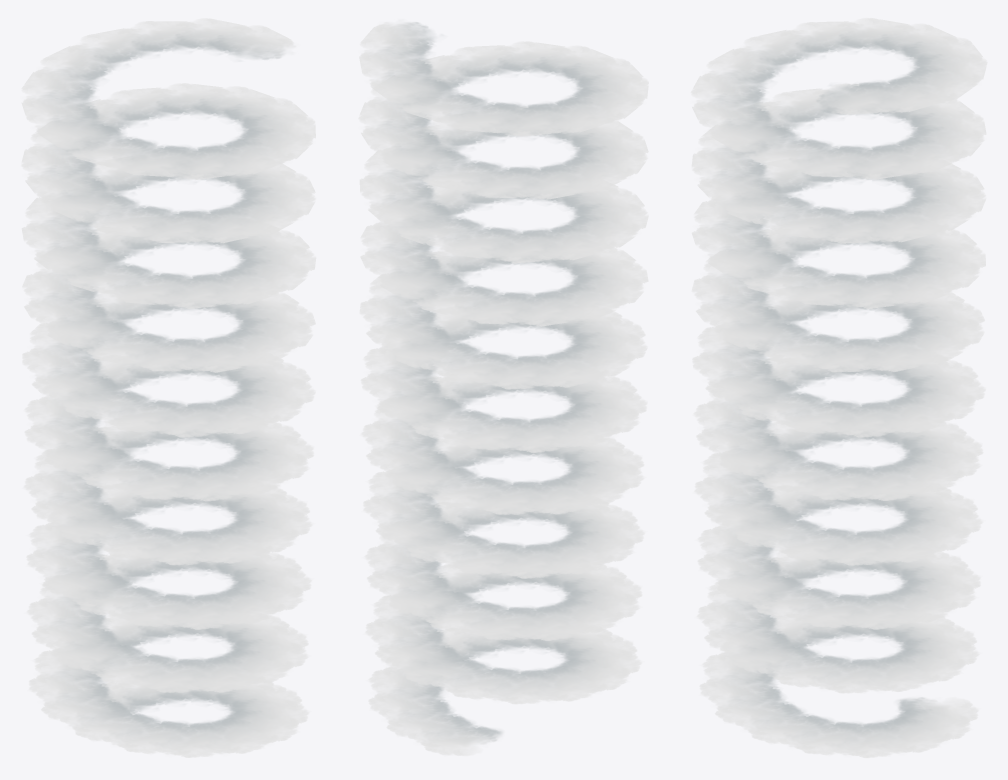
The model's file is clouds.gltf.
The picture shows the model from 3 angles, left to right: view 1: azimuth 30°, elevation 25°; view 2: azimuth 150°, elevation 25°; view 3: azimuth 270°, elevation 25°; orthographic projection.
Parts seen in each view (by area): view 1: Plane; view 2: Plane; view 3: Plane.
Boxes of the visible parts, x1,y1,x2,y2 form: Plane: (21,18,316,757); Plane: (358,19,648,755); Plane: (690,18,987,757).
Bounding box in the file's own units: 6.32 × 14.9 × 6.32.
Materials: 1 (1 with a texture image).
